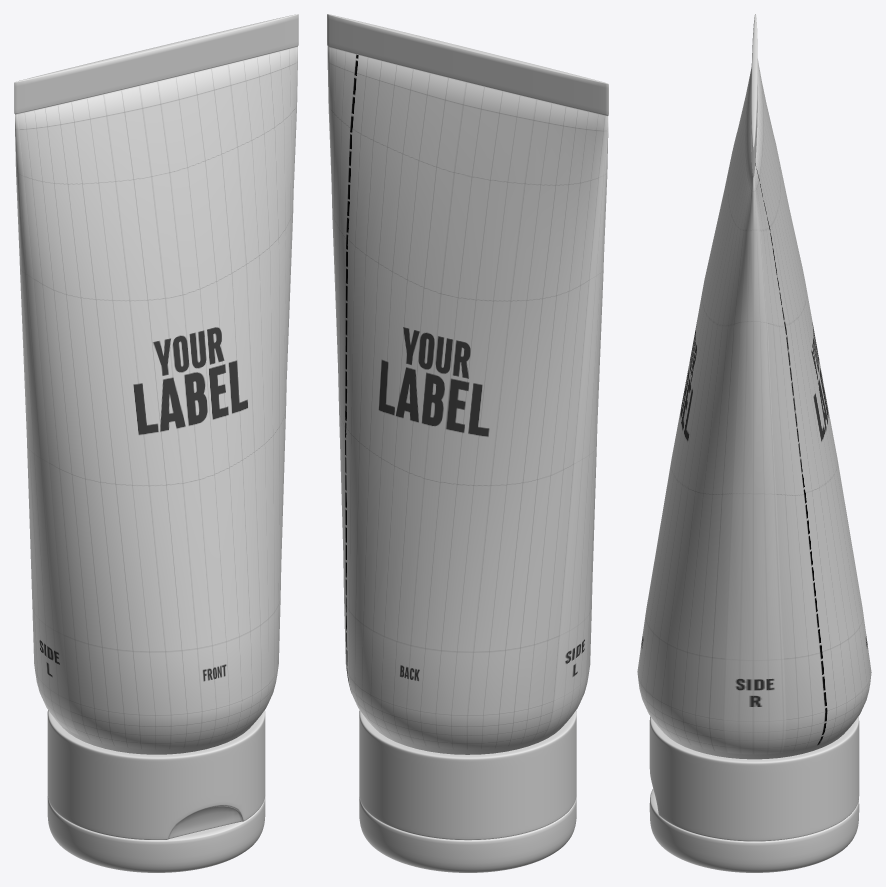
Rendered from TANDPASTA-TURBOSQUID-ID003_v1.gltf.
3 renders of one model, left to right at view 1: azimuth 30°, elevation 25°; view 2: azimuth 150°, elevation 25°; view 3: azimuth 270°, elevation 25°, orthographic. The views are drawn at different scales.
Parts seen in each view (by area): view 1: Obj.004; view 2: Obj.004; view 3: Obj.004.
Boxes of the visible parts, x1=… form: Obj.004: x1=14, y1=14, x2=298, y2=872; Obj.004: x1=327, y1=14, x2=608, y2=872; Obj.004: x1=637, y1=14, x2=871, y2=872.
Bounding box in the file's own units: 0.0588 × 0.1553 × 0.0438.
Materials: 2 (1 with a texture image).
